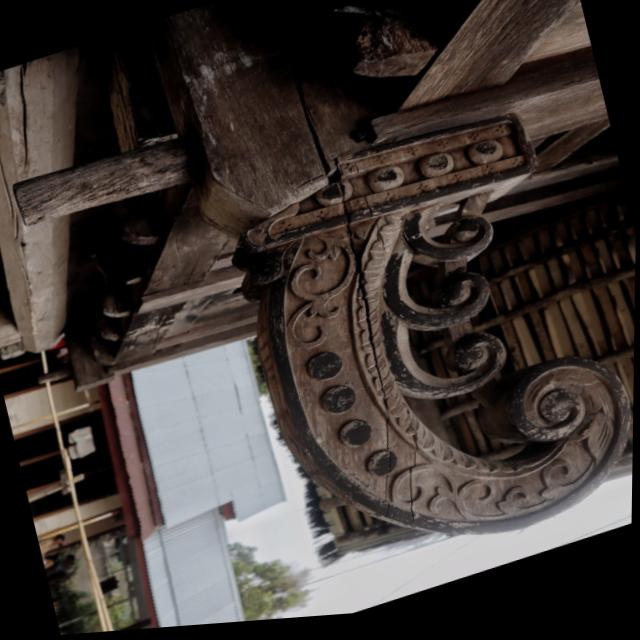Ornamen: (231, 113, 630, 534)
